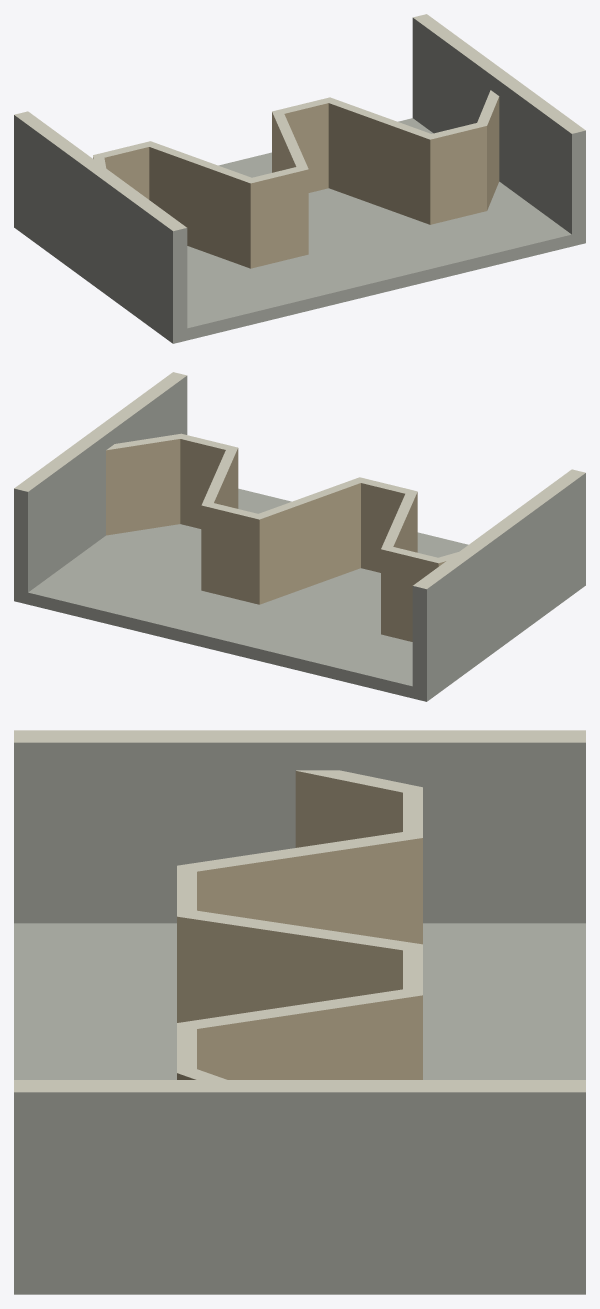
The picture shows the model from 3 angles, top to bottom: view 1: azimuth 30°, elevation 25°; view 2: azimuth 150°, elevation 25°; view 3: azimuth 270°, elevation 25°; orthographic projection. The views are drawn at different scales.
Parts seen in each view (by area): view 1: WholeTwoMouthApronAndSideBanks, WholeContinuousTrapezoidalLabyrinthCrestWall; view 2: WholeTwoMouthApronAndSideBanks, WholeContinuousTrapezoidalLabyrinthCrestWall; view 3: WholeTwoMouthApronAndSideBanks, WholeContinuousTrapezoidalLabyrinthCrestWall.
Part boxes in pixels (<box>): WholeTwoMouthApronAndSideBanks: <box>14,14,585,343</box>; WholeContinuousTrapezoidalLabyrinthCrestWall: <box>93,90,499,268</box>; WholeTwoMouthApronAndSideBanks: <box>14,372,585,701</box>; WholeContinuousTrapezoidalLabyrinthCrestWall: <box>106,433,458,641</box>; WholeTwoMouthApronAndSideBanks: <box>14,730,585,1294</box>; WholeContinuousTrapezoidalLabyrinthCrestWall: <box>177,770,422,1079</box>.
Bounding box in the file's own units: 6.44 × 1.68 × 4.3.
